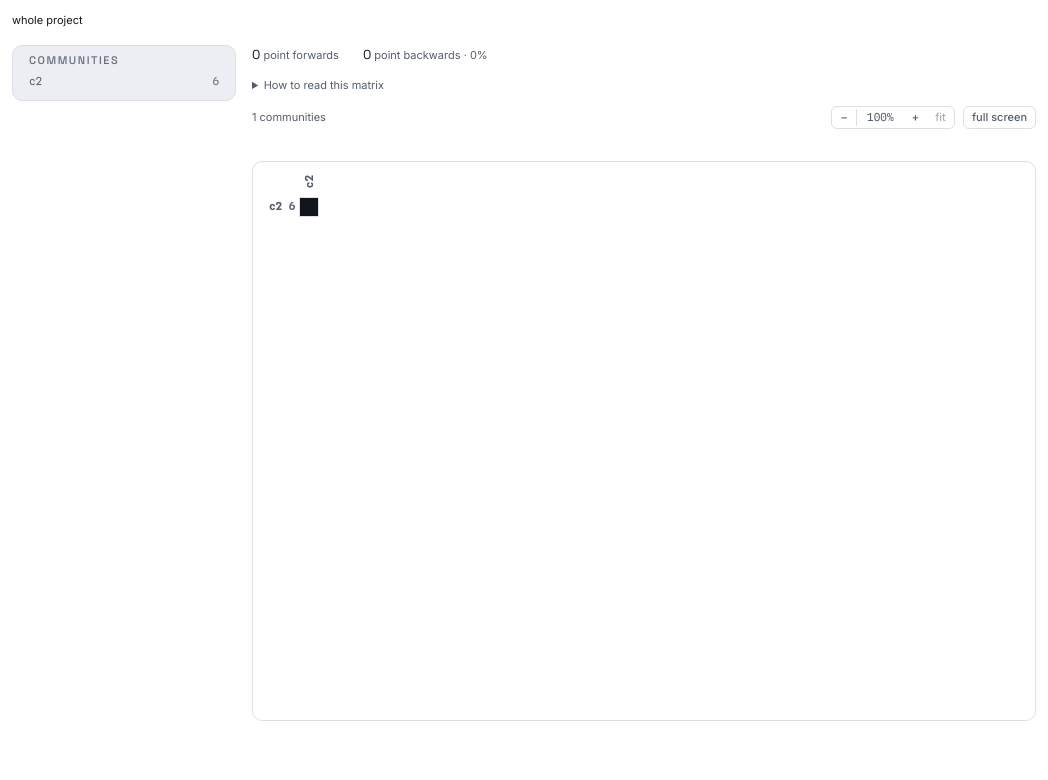
Test: MapCanvas › says why it will not draw a community rather than drawing one nobody can follow
The image size is (1048, 780).
Click the 1st button "c2 6": (124, 82) [21,71,227,92]
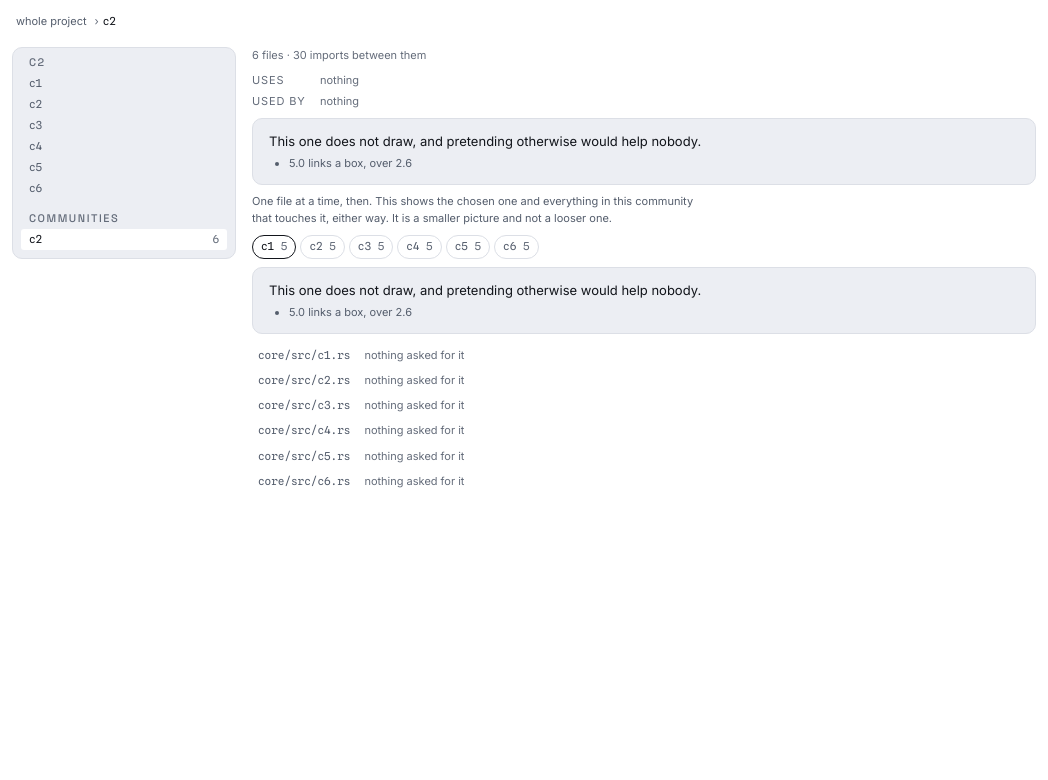
Expected: the text "does not draw" is shown 2 times, [269,133,701,149]; [269,282,701,298]
Expected: the 1st list item "5.0 links a box, over 2.6" is shown, [289,156,412,170]
Expected: the element named "Around" is shown, [252,236,538,258]
